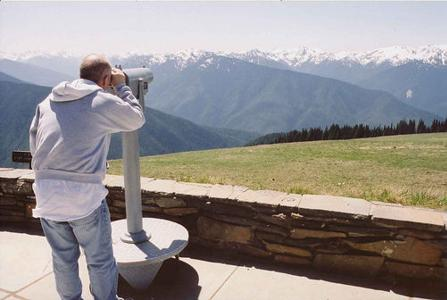person: (28, 52, 146, 300)
